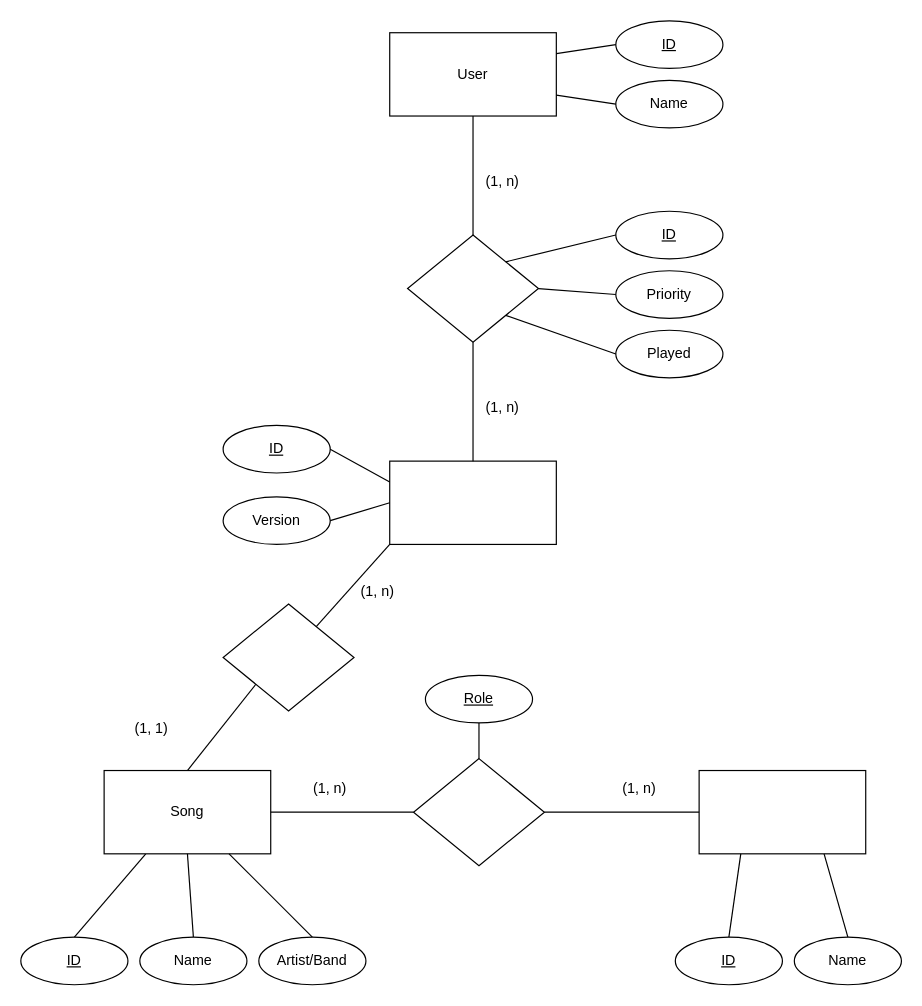
Some shapes in this 922 by 1006 pixel diagram are drawn without their labels. The centre of each missing label's shape, as x and y in pixels:
"Contributes" belongs at [478,811].
"Contributor" belongs at [782,811].
"File" belongs at [472,502].
"Has" belongs at [288,657].
"Queue" belongs at [472,288].
